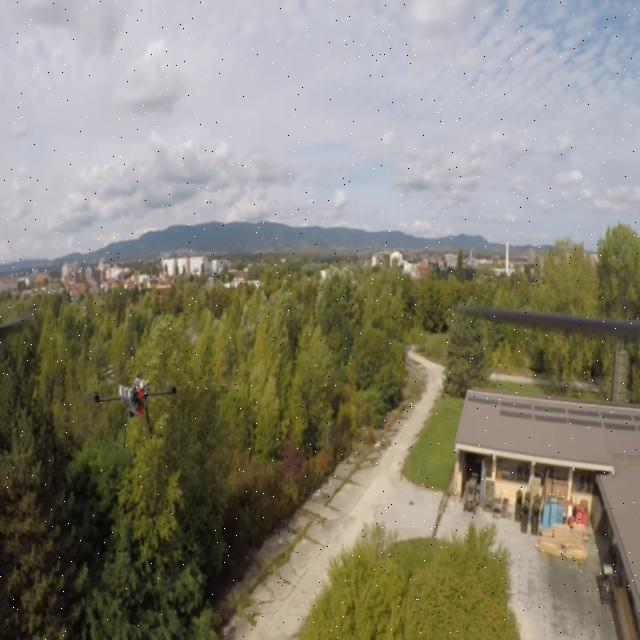UAV: (92, 370, 177, 457)
